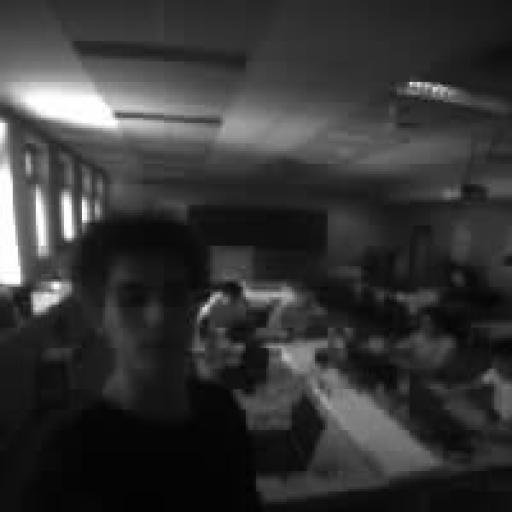human: (13, 213, 261, 511), (443, 341, 511, 432), (395, 308, 455, 373), (267, 282, 327, 337), (198, 280, 250, 335)
